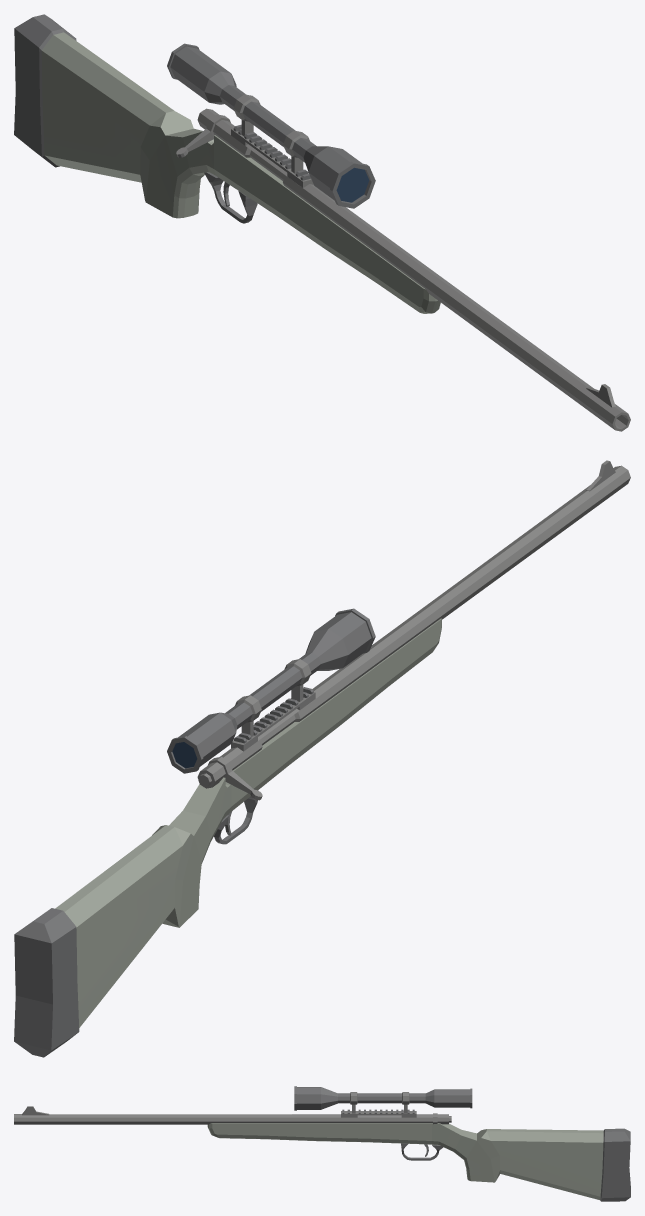
File: Sniper.fbx
The picture shows the model from 3 angles, top to bottom: view 1: azimuth 30°, elevation 25°; view 2: azimuth 150°, elevation 25°; view 3: azimuth 270°, elevation 25°; orthographic projection. The views are drawn at different scales.
Parts seen in each view (by area): view 1: SniperRifle_1; view 2: SniperRifle_1; view 3: SniperRifle_1.
Part boxes in pixels (x1,y1,x2,y2): SniperRifle_1: [14, 14, 630, 431]; SniperRifle_1: [14, 460, 630, 1057]; SniperRifle_1: [14, 1086, 630, 1201].
Bounding box in the file's own units: 0.0756 × 0.2441 × 1.2.
